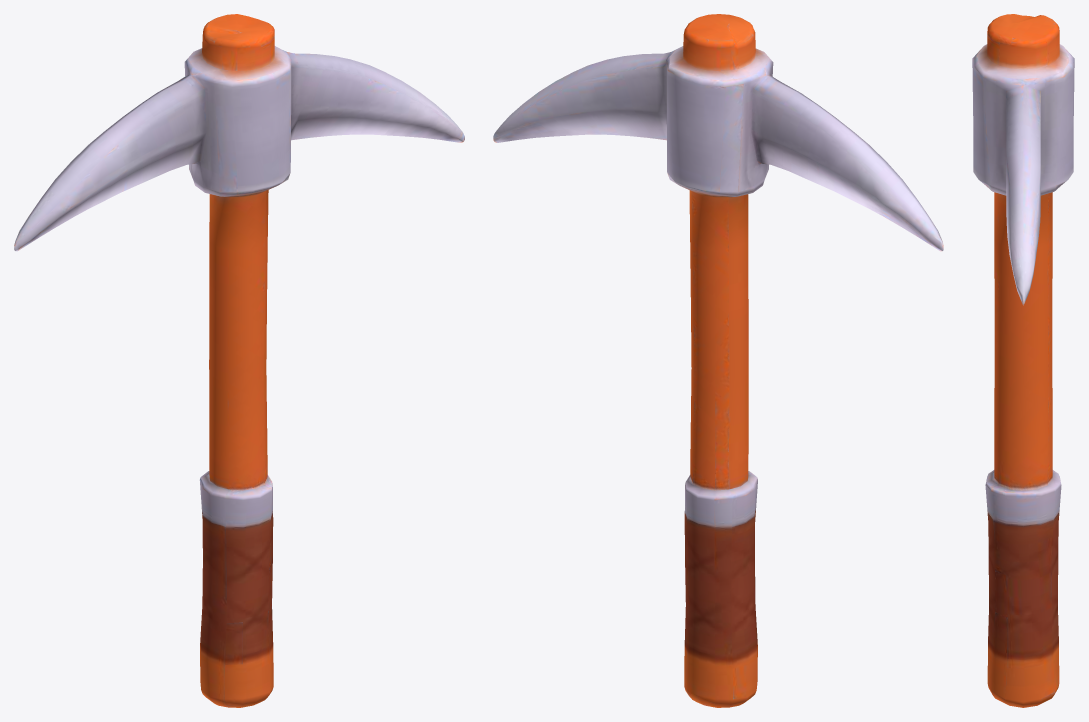
File: pick-1.gltf
3 renders of one model, left to right at view 1: azimuth 30°, elevation 25°; view 2: azimuth 150°, elevation 25°; view 3: azimuth 270°, elevation 25°, orthographic.
Visible parts, largest first — view 1: pick-1; view 2: pick-1; view 3: pick-1.
Part boxes in pixels (bbox=[...]): pick-1: bbox=[14, 14, 464, 707]; pick-1: bbox=[493, 14, 943, 707]; pick-1: bbox=[972, 14, 1074, 707].
Size of the model in its own units: 0.6997 by 0.9995 by 0.1372.
Materials: 1 (1 with a texture image).
